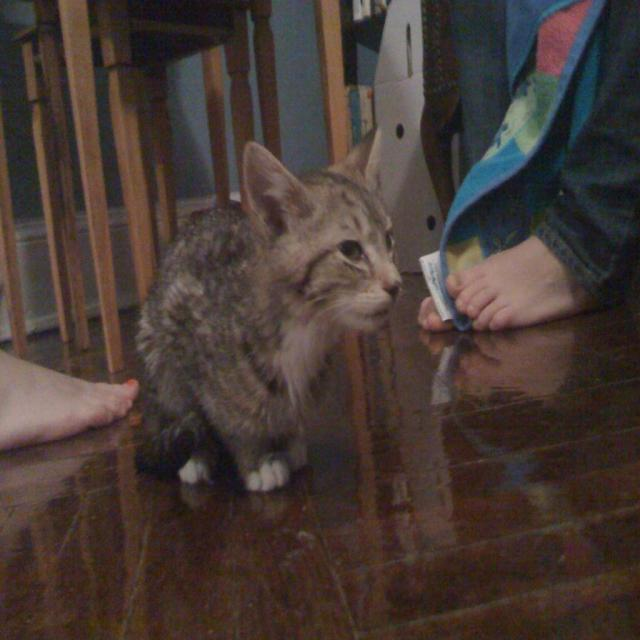Cat: (122, 124, 414, 508)
